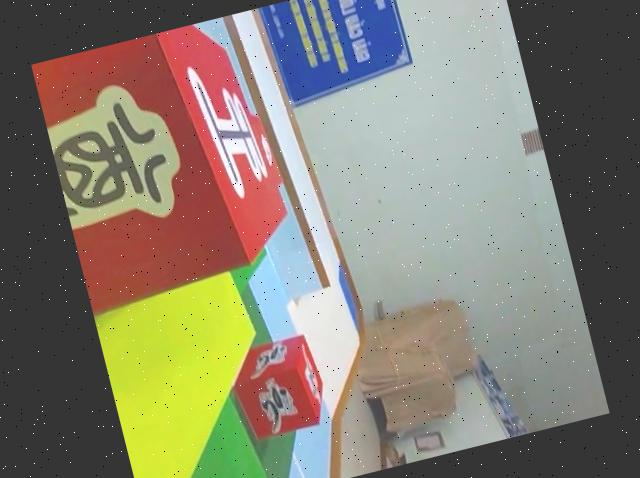R1: (216, 331, 334, 452)
R2 Fake: (31, 13, 304, 325)
